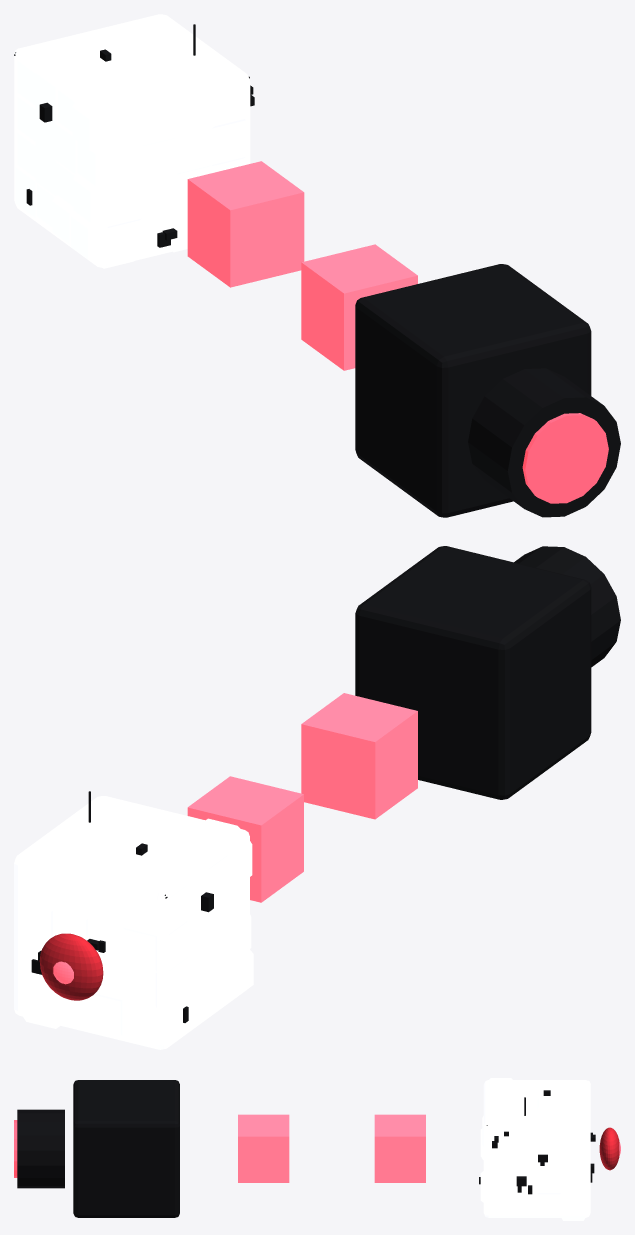
File: nyx_small.glb
3 views of the same model, one above another, from view 1: azimuth 30°, elevation 25°; view 2: azimuth 150°, elevation 25°; view 3: azimuth 270°, elevation 25° (orthographic). The views are drawn at different scales.
Parts seen in each view (by area): view 1: nyx_small; view 2: nyx_small; view 3: nyx_small.
Part boxes in pixels (x1,y1,x2,y2): nyx_small: (14, 14, 620, 517); nyx_small: (14, 546, 620, 1049); nyx_small: (14, 1078, 620, 1220).
Size of the model in its own units: 1.95 by 2.16 by 10.
